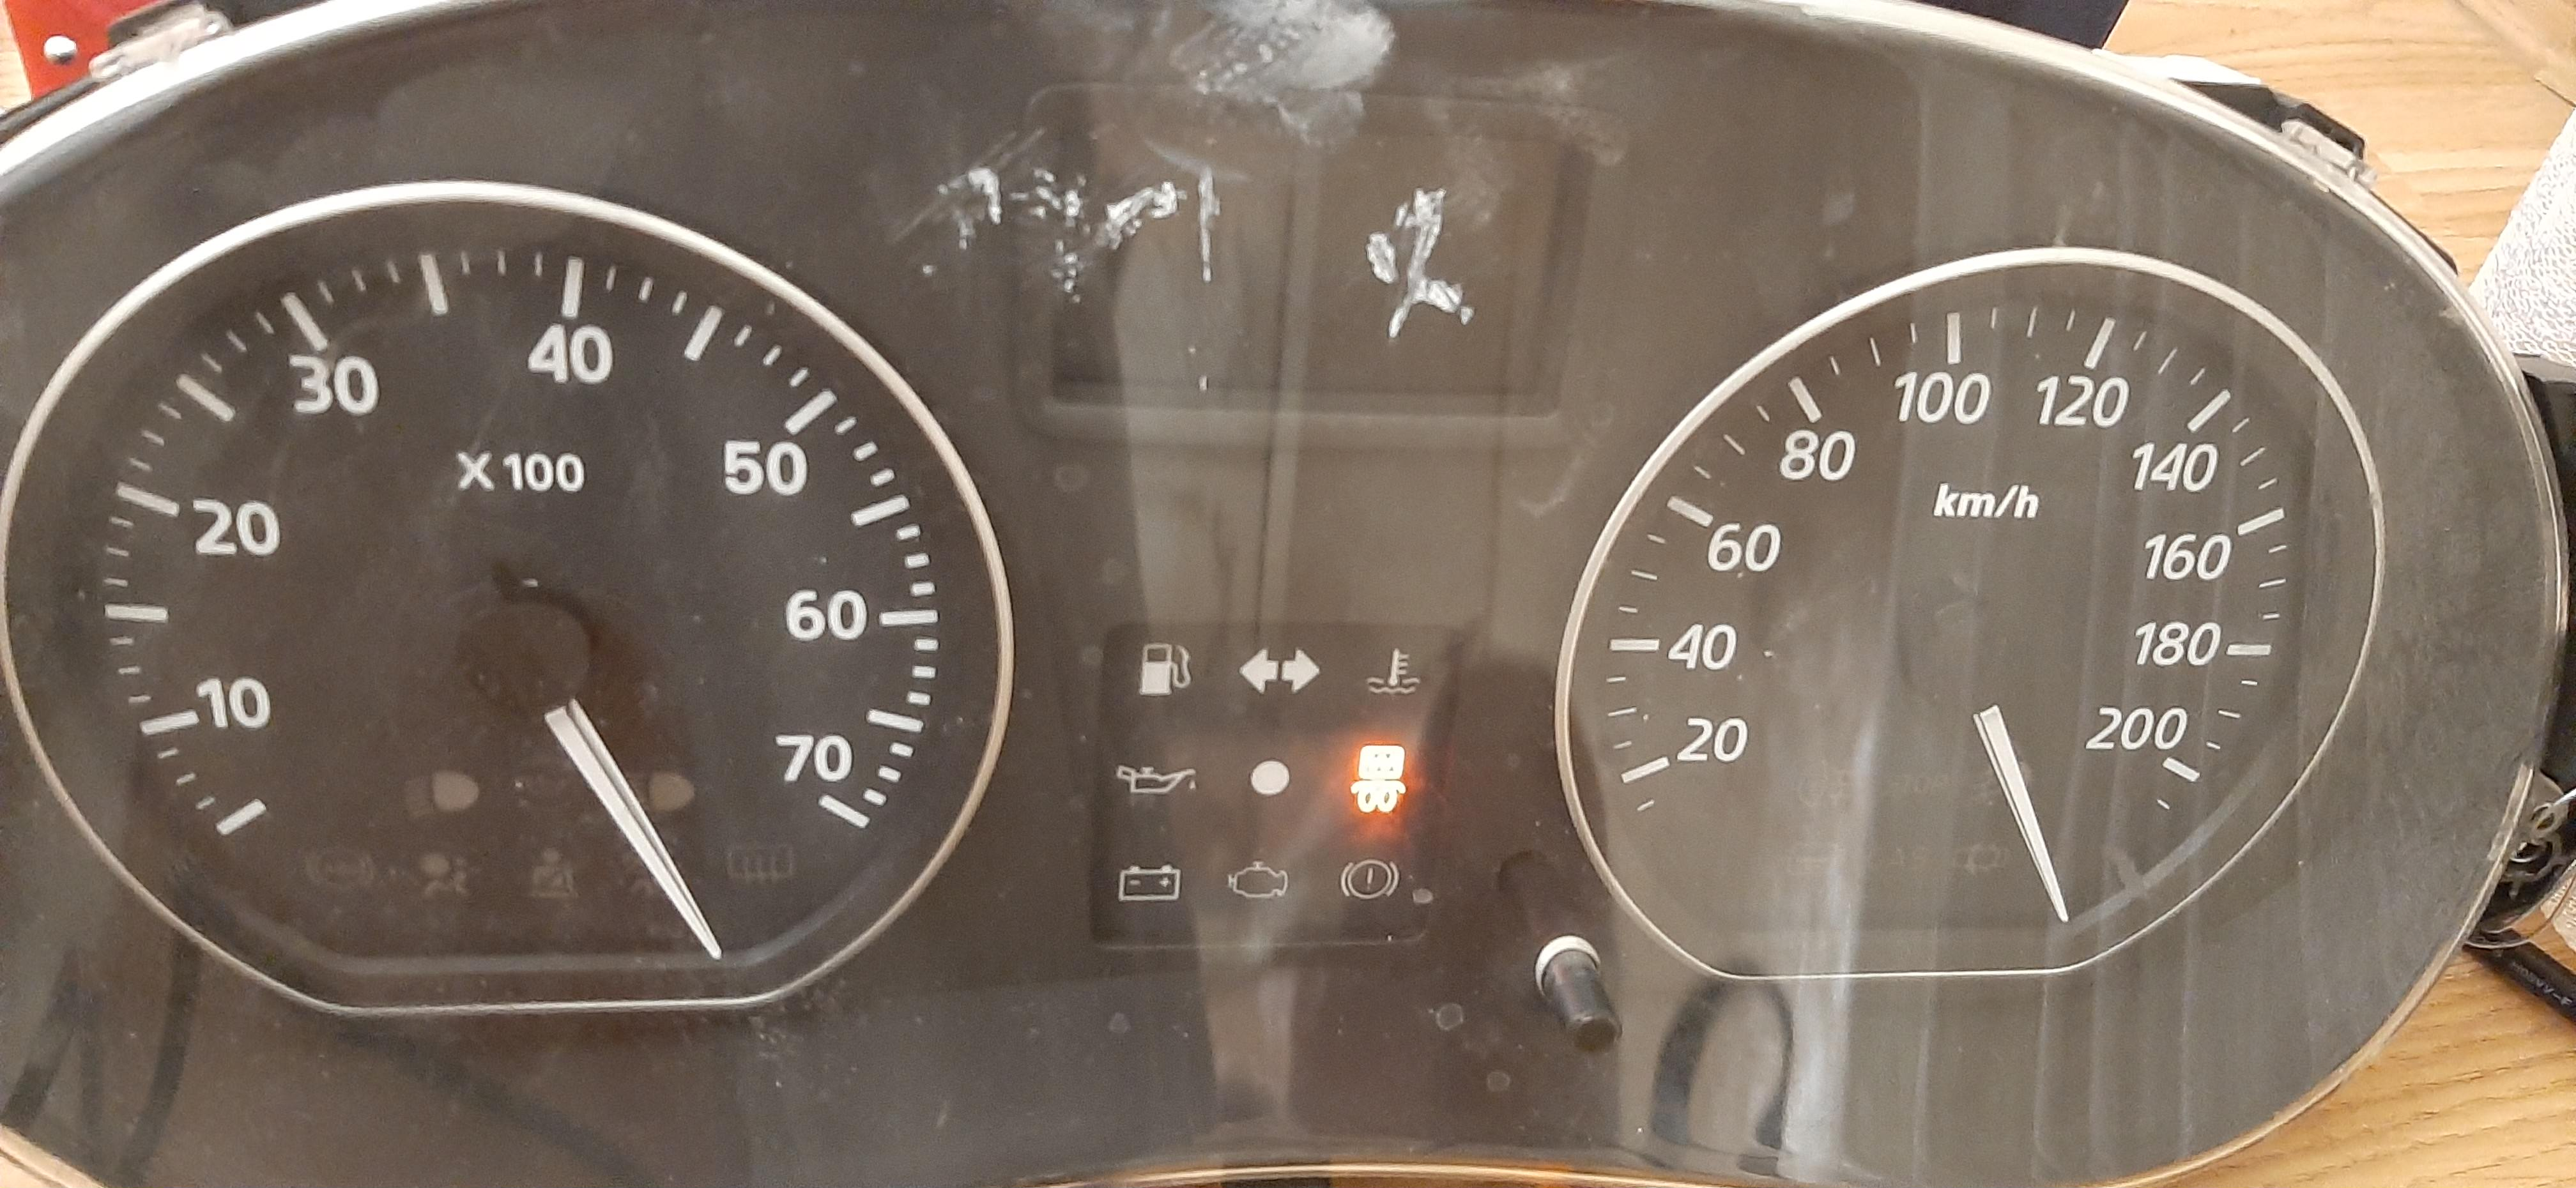diesel5: (1350, 743, 1410, 820)
